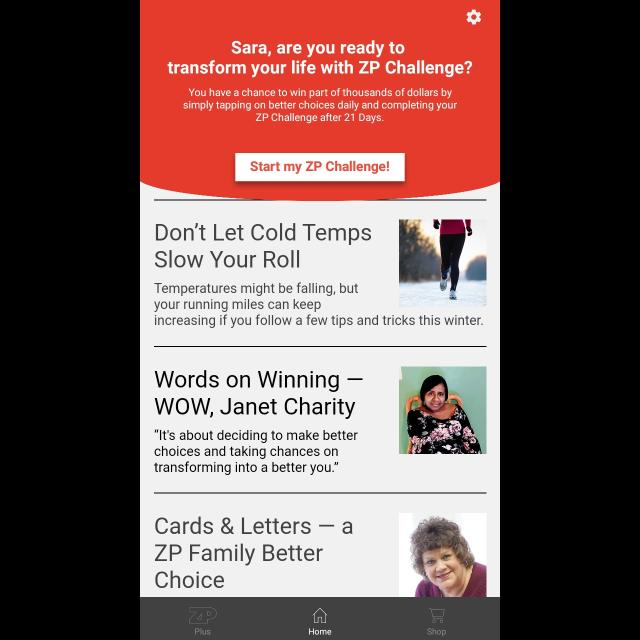icon: (428, 608, 444, 624), (312, 608, 328, 624), (466, 10, 482, 26)
image: (399, 366, 486, 454), (399, 220, 486, 306), (399, 513, 486, 597), (189, 608, 217, 624)
text: (156, 516, 352, 588), (168, 40, 472, 78), (154, 370, 363, 420), (183, 88, 457, 124), (155, 224, 371, 268), (154, 429, 358, 475), (154, 284, 358, 312), (155, 315, 483, 329), (426, 628, 446, 636), (308, 628, 332, 634), (195, 628, 211, 636)
textbutton: (235, 154, 405, 182)
